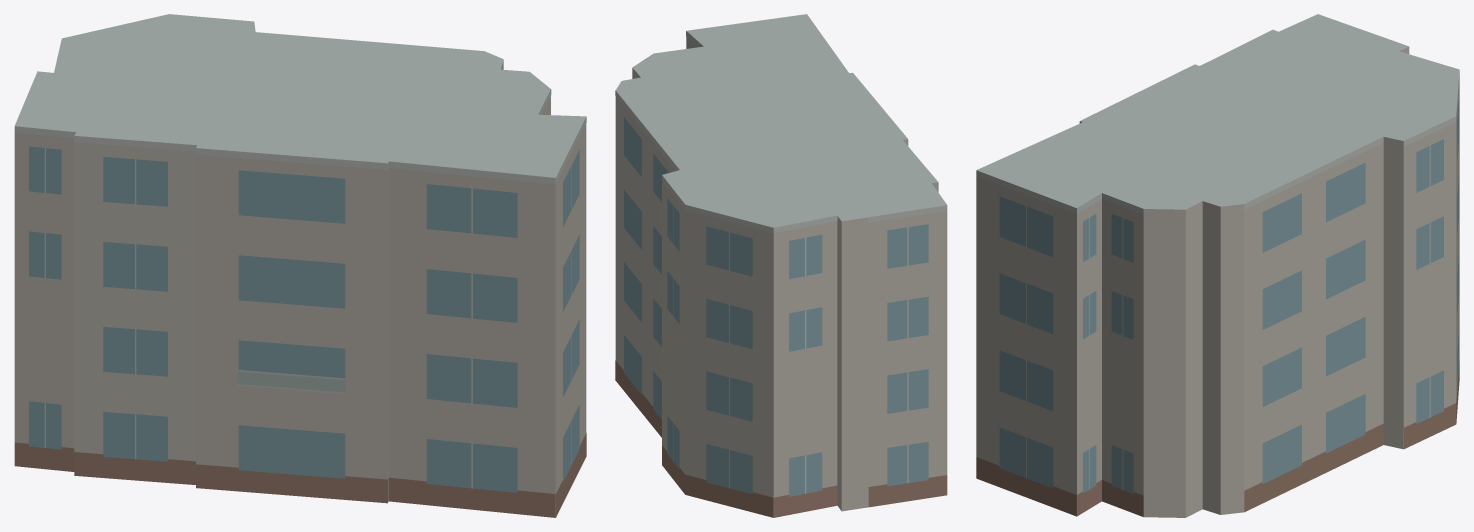
Rendered from survey-upis-32956734.glb.
3 renders of one model, left to right at view 1: azimuth 30°, elevation 25°; view 2: azimuth 150°, elevation 25°; view 3: azimuth 270°, elevation 25°, orthographic. The views are drawn at different scales.
Parts seen in each view (by area): view 1: survey-upis-32956734.tmp; view 2: survey-upis-32956734.tmp; view 3: survey-upis-32956734.tmp.
Boxes of the visible parts, bbox=[...] form: survey-upis-32956734.tmp: bbox=[14, 14, 586, 517]; survey-upis-32956734.tmp: bbox=[615, 14, 947, 517]; survey-upis-32956734.tmp: bbox=[976, 14, 1459, 517].
Bounding box in the file's own units: 17.43 × 12.8 × 18.2.
